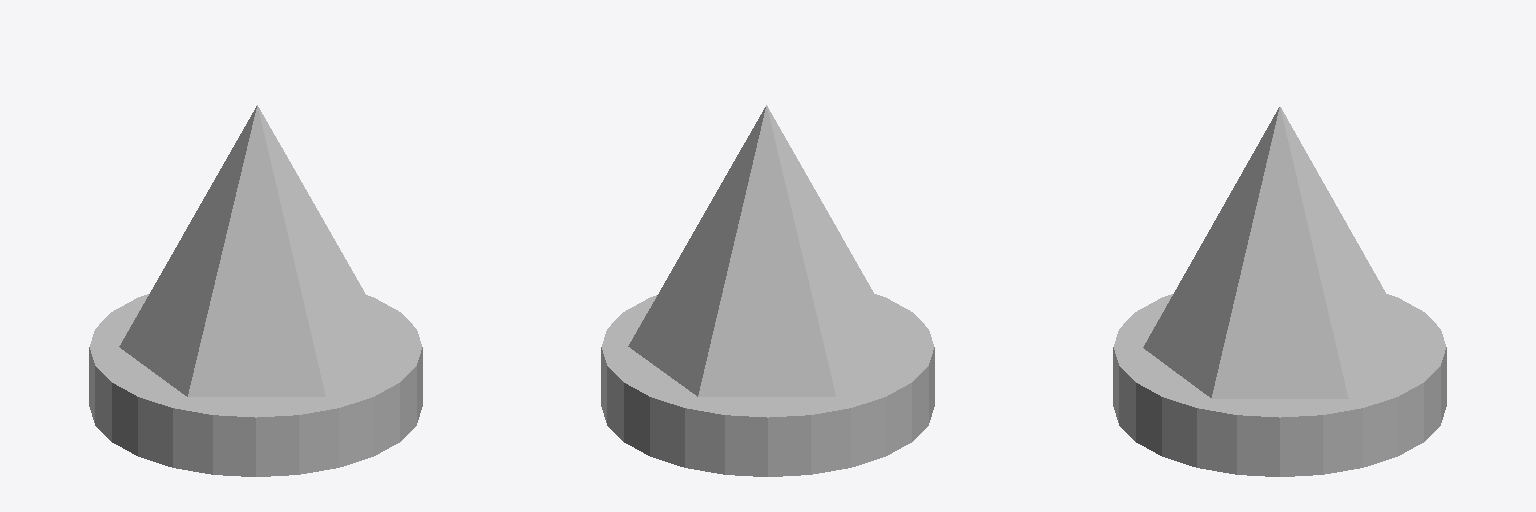
File: gems_aquamarine_4.obj
The picture shows the model from 3 angles: view 1: azimuth 30°, elevation 25°; view 2: azimuth 150°, elevation 25°; view 3: azimuth 270°, elevation 25°; orthographic projection.
Visible parts, largest first — view 1: mergedBlocks; view 2: mergedBlocks; view 3: mergedBlocks.
Boxes of the visible parts, box(x1,y1,x2,y2) form: mergedBlocks: box(89, 105, 422, 476); mergedBlocks: box(601, 105, 934, 476); mergedBlocks: box(1113, 107, 1446, 476).
Size of the model in its own units: 1 by 1 by 1.